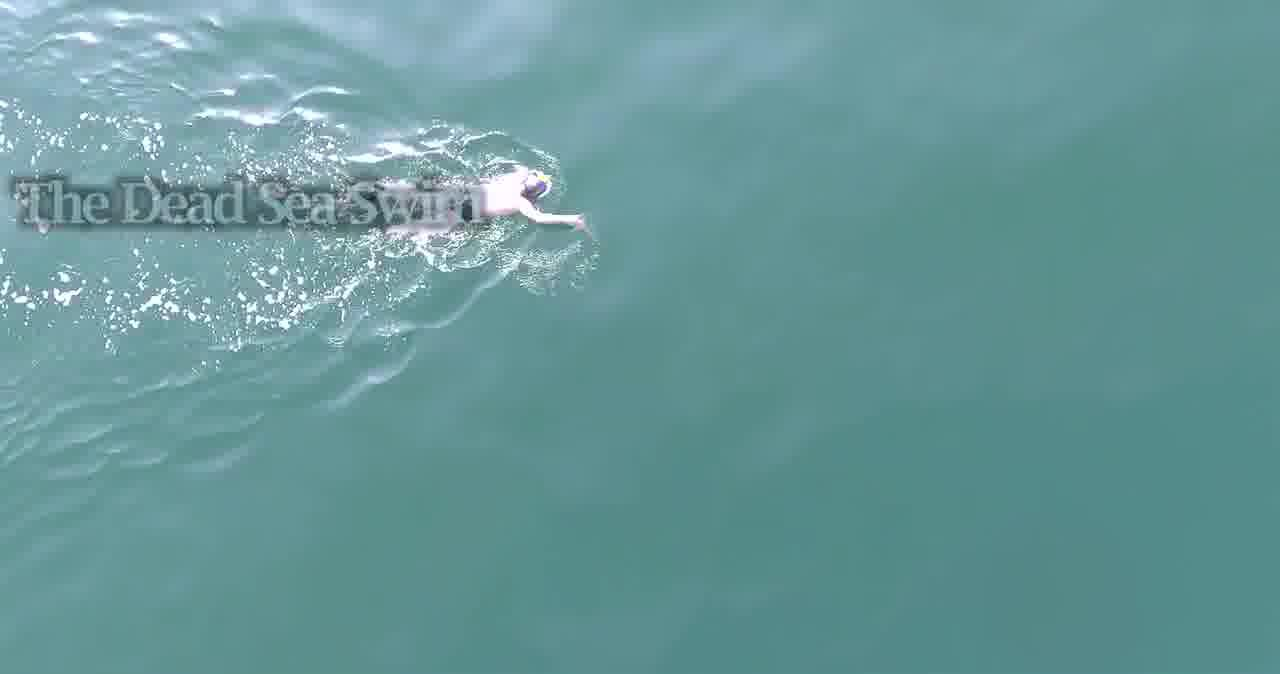human: (461, 162, 593, 234)
